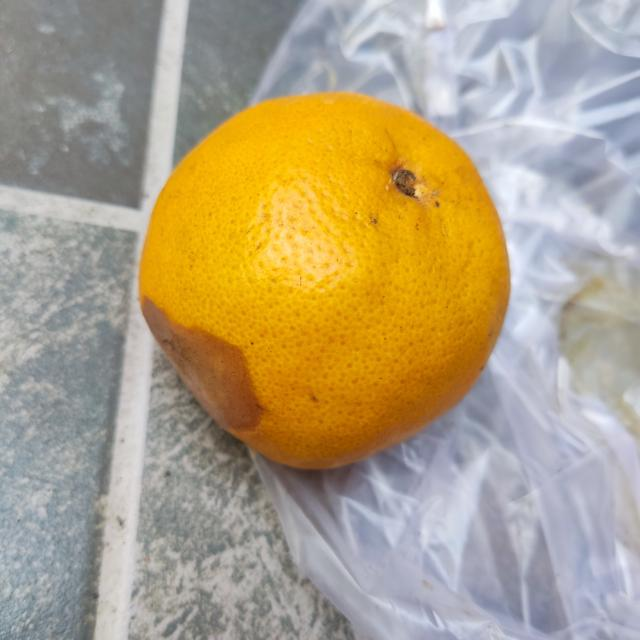orange: (134, 87, 512, 471)
